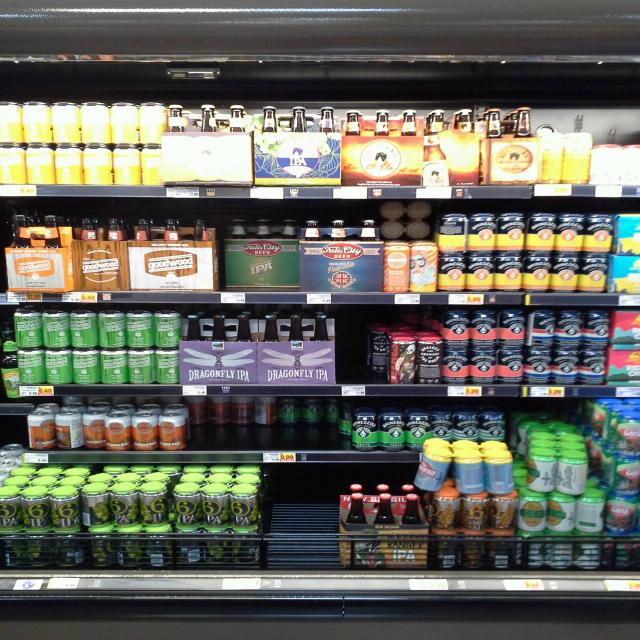void: (264, 466, 302, 591), (303, 465, 337, 590), (340, 303, 382, 396), (627, 119, 640, 195)
